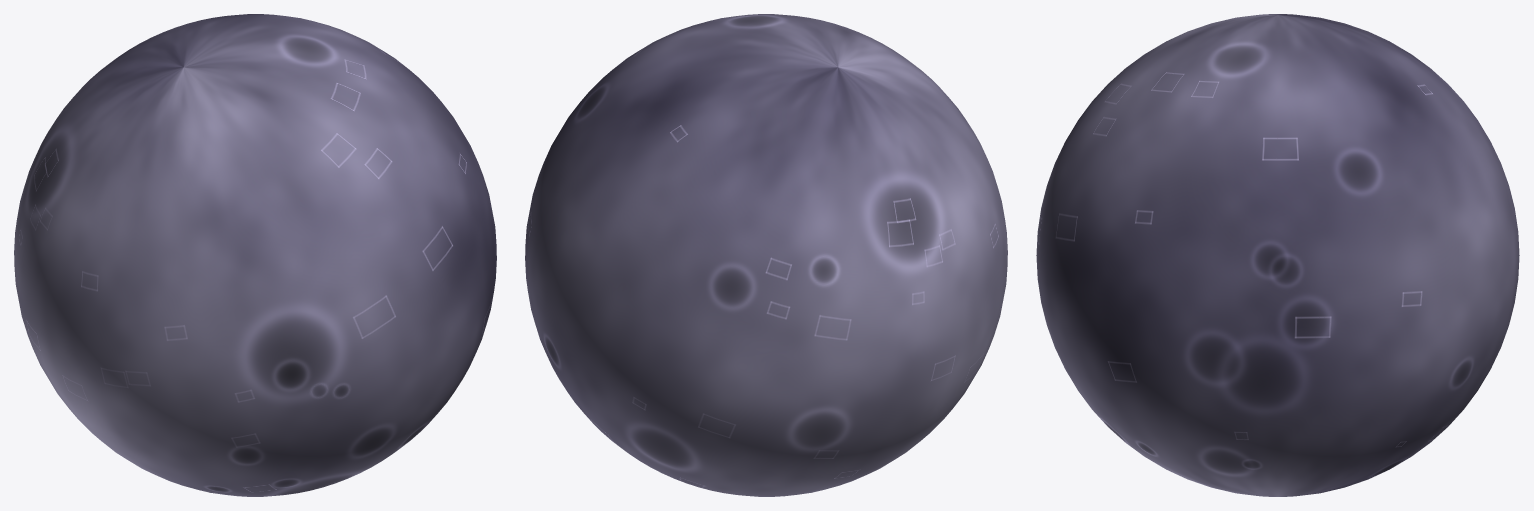
The model's file is ossuary.glb.
3 views of the same model, side by side, from view 1: azimuth 30°, elevation 25°; view 2: azimuth 150°, elevation 25°; view 3: azimuth 270°, elevation 25° (orthographic).
Parts seen in each view (by area): view 1: Surface; view 2: Surface; view 3: Surface.
Boxes of the visible parts, x1=… form: Surface: x1=14, y1=14, x2=496, y2=496; Surface: x1=525, y1=14, x2=1007, y2=496; Surface: x1=1036, y1=14, x2=1519, y2=496.
Size of the model in its own units: 2 by 2 by 2.
1 material, 1 textured.
